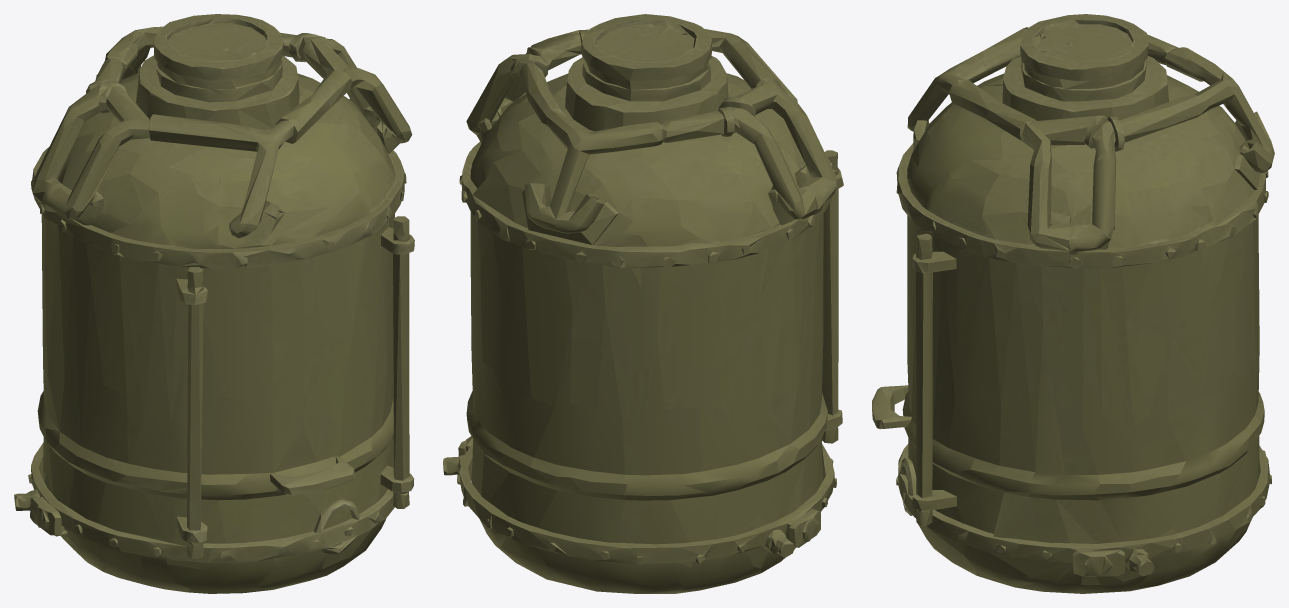
File: contenedor.glb
3 views of the same model, side by side, from view 1: azimuth 30°, elevation 25°; view 2: azimuth 150°, elevation 25°; view 3: azimuth 270°, elevation 25° (orthographic).
Bounding box in the file's own units: 1.42 × 1.9 × 1.41.
1 material, 1 textured.
